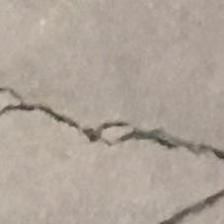Crack: (1, 74, 224, 224)
